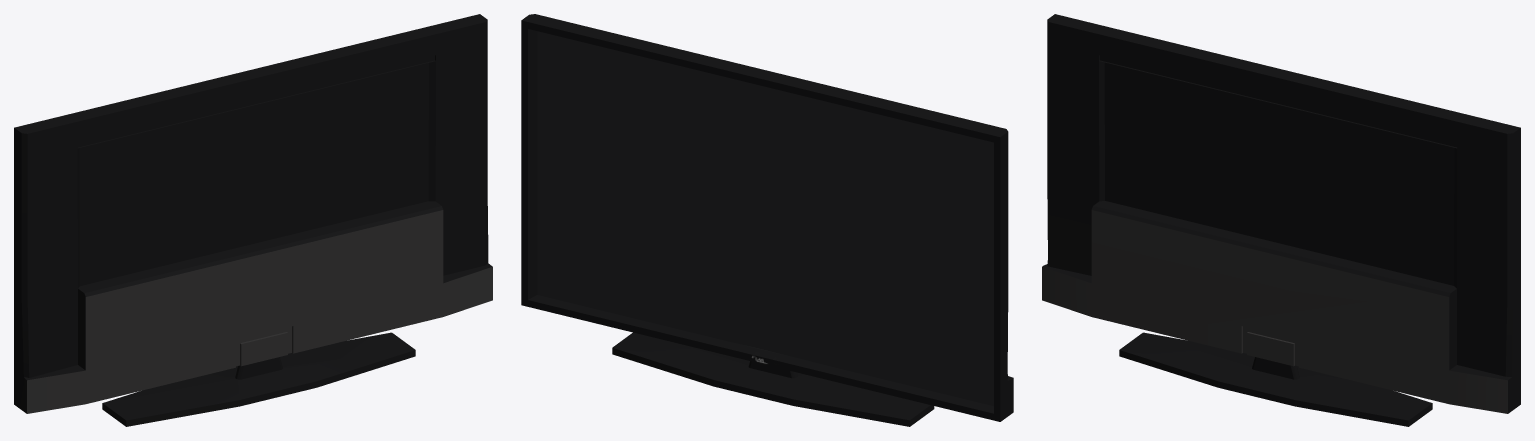
The picture shows the model from 3 angles, left to right: view 1: azimuth 30°, elevation 25°; view 2: azimuth 150°, elevation 25°; view 3: azimuth 330°, elevation 25°; orthographic projection. The views are drawn at different scales.
Visible parts, largest first — view 1: Screen, Stand; view 2: Screen, Stand; view 3: Screen, Stand.
Part boxes in pixels (box(x1,y1,x2,y2)): Screen: box(14, 14, 492, 413); Stand: box(102, 332, 415, 426); Screen: box(521, 14, 1013, 421); Stand: box(612, 332, 934, 426); Screen: box(1042, 14, 1520, 413); Stand: box(1119, 332, 1432, 426).
Bounding box in the file's own units: 220 × 137 × 31.6.
